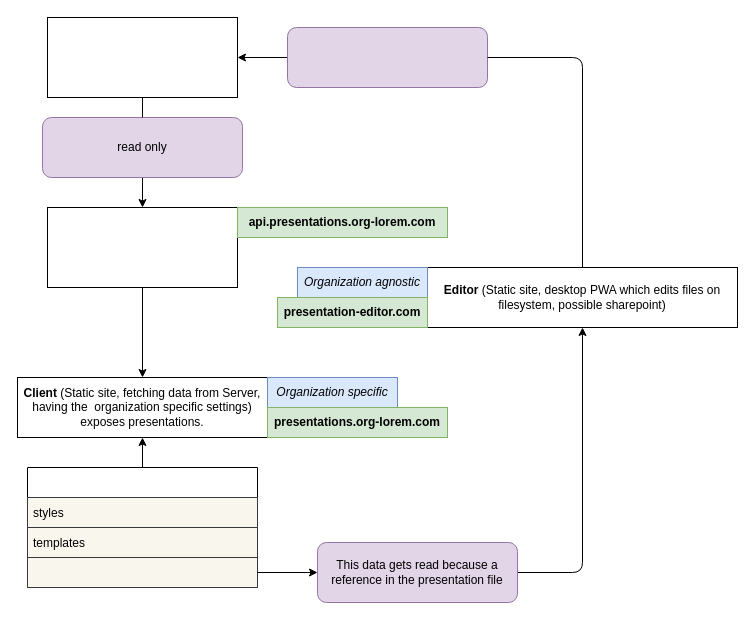
The diagram is 755 pixels wide and 620 high, and some of its shapes have lost their labels. The shapes that lost their labels are listed below. From the top down, each one's box as (x1, y1, x2, y2) in pixels, then its label:
(46, 16, 238, 98): Filesystem or Sharepoint folder
(286, 26, 488, 88): create and update presentations
(46, 206, 238, 288): Server (exposes a list of known presentations, exposes files and photos)
(26, 466, 258, 588): Organization specific settings
(26, 556, 258, 588): presentation_url (bindings to the server)
